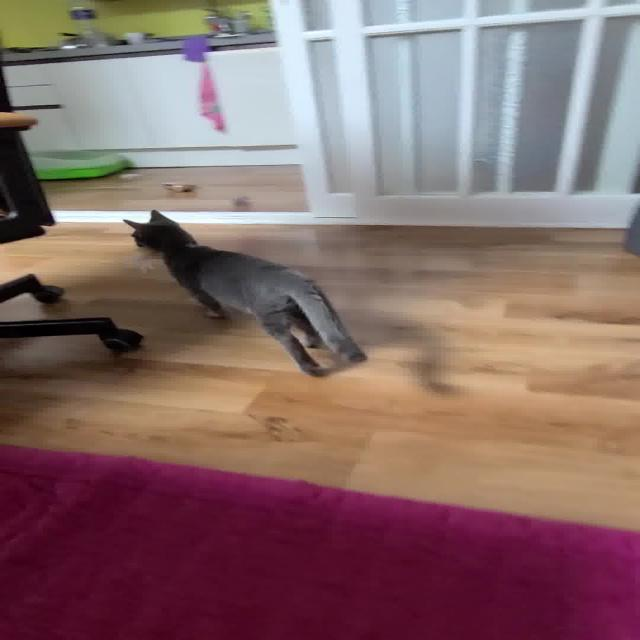cat: (96, 198, 405, 402)
